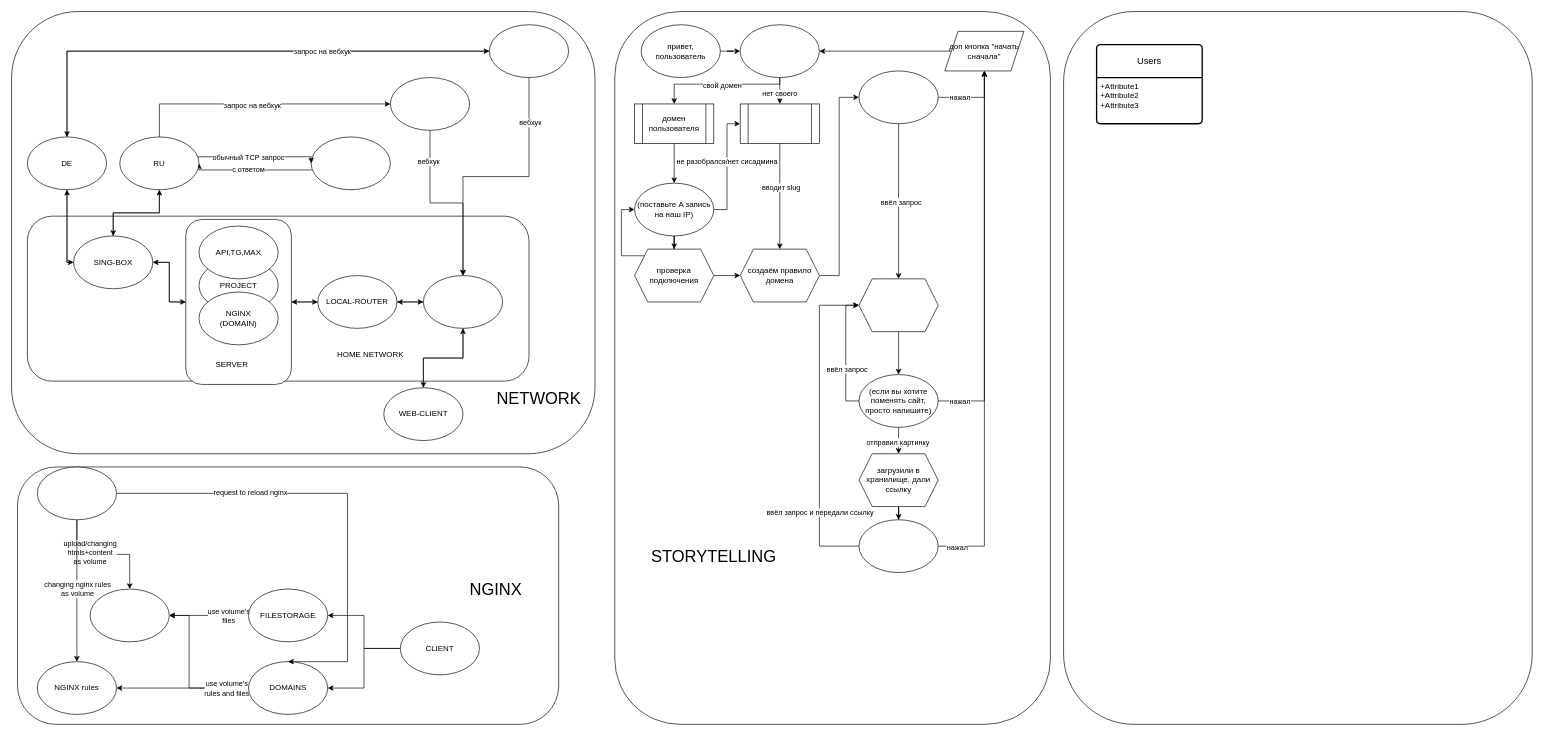
Image size: 1544x736. Some labels were removed from this diagram. Here are the shapes that lost their labels. From the top down, the centre of each, then its label:
At (529,51): "TG".
At (779,51): "какой у тебя будет домен?".
At (430,103): "MAX".
At (898,97): "(какой сайт вы хотите? - напишите подробнее)".
At (779,123): "наш домен".
At (350,163): "GIGACHAT".
At (463,301): "ROUTER (WHITE IP)".
At (898,305): "создаём сайт, кладём в нгинкс".
At (76,493): "APP".
At (898,546): "(где вы хотите видеть эту картинку)".
At (129,615): "HTMLs+content".
